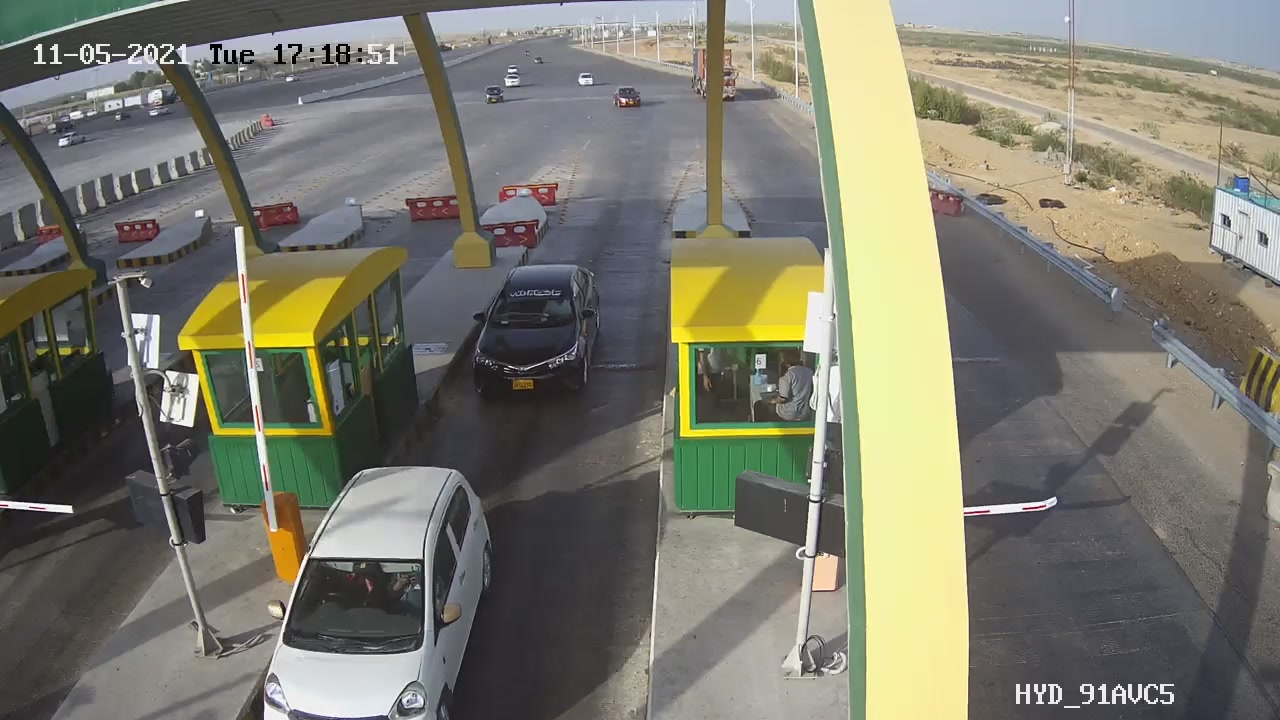F1: (459, 251, 613, 412)
